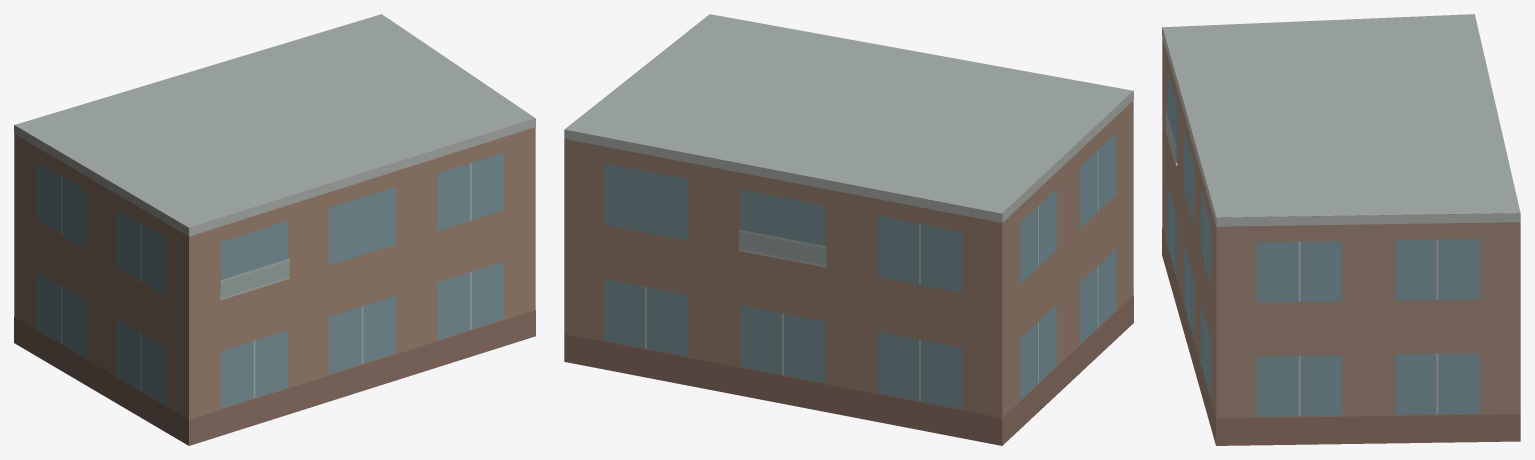
Rendered from survey-upis-32769648.glb.
3 views of the same model, side by side, from view 1: azimuth 30°, elevation 25°; view 2: azimuth 150°, elevation 25°; view 3: azimuth 270°, elevation 25° (orthographic). The views are drawn at different scales.
Visible parts, largest first — view 1: survey-upis-32769648.tmp; view 2: survey-upis-32769648.tmp; view 3: survey-upis-32769648.tmp.
Part boxes in pixels (bbox=[...]): survey-upis-32769648.tmp: bbox=[14, 14, 535, 445]; survey-upis-32769648.tmp: bbox=[564, 14, 1133, 445]; survey-upis-32769648.tmp: bbox=[1162, 14, 1520, 445].
Bounding box in the file's own units: 11.67 × 6.1 × 8.69.
